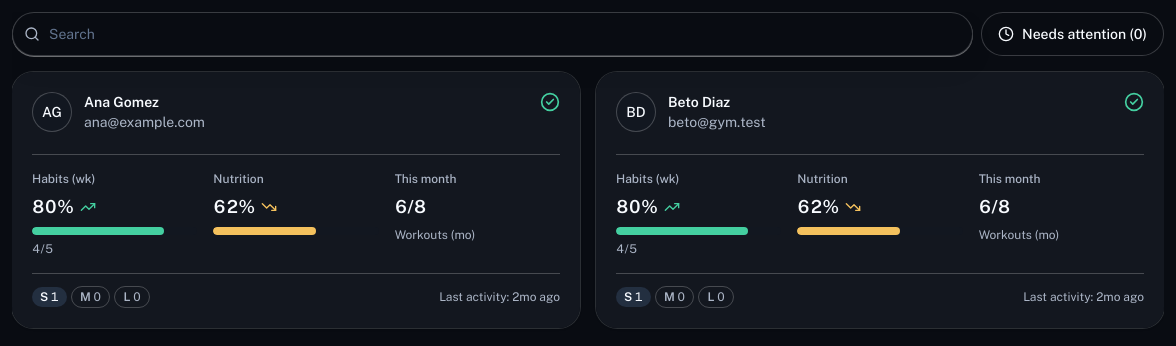
Test case: RosterTable — search › says 'no clients' for a search that matches nobody
This screenshot has width=1176, height=346.
Type "zzzz" into the search field at (493, 34), box [12, 12, 973, 56]
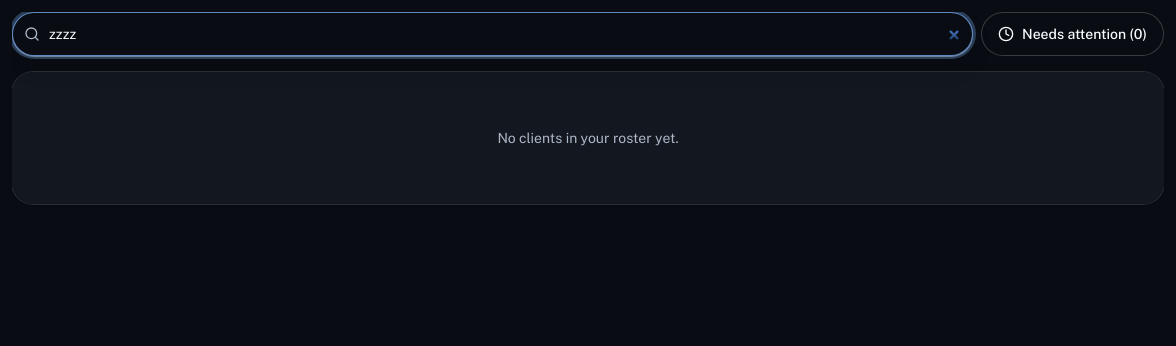
Expected: the text "No clients in your roster yet." is shown, [497, 130, 679, 146]
